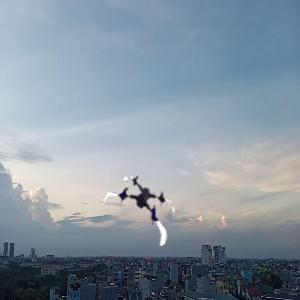drone: (102, 167, 179, 244)
